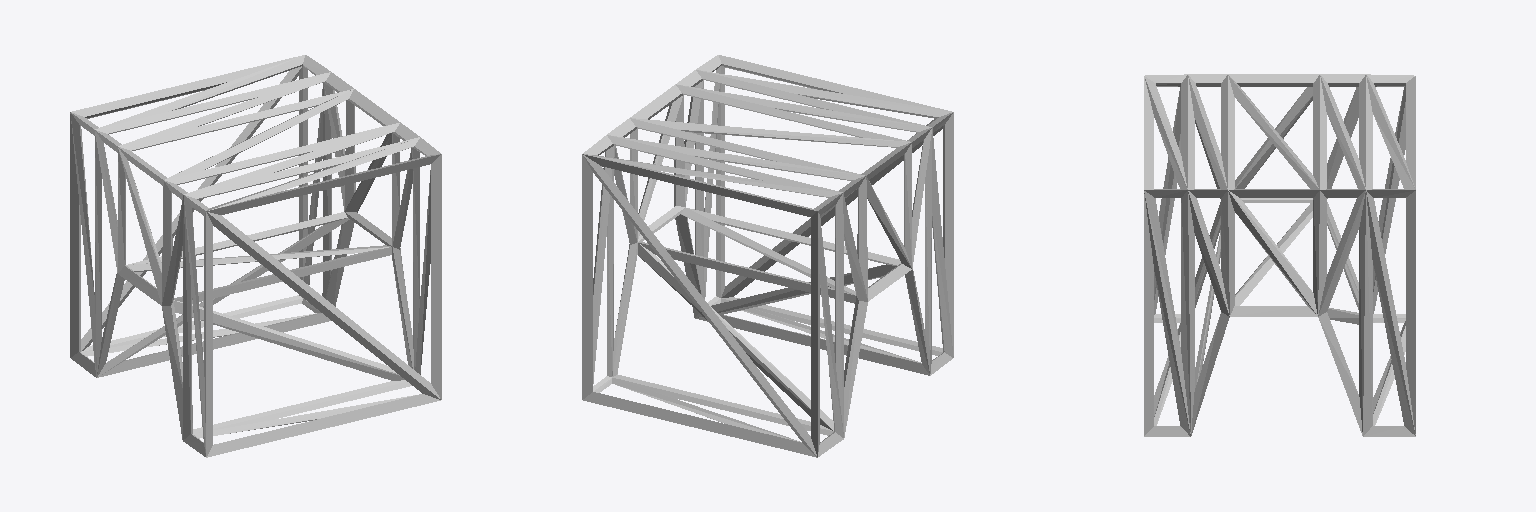
File: WF_Bridge.obj
3 views of the same model, side by side, from view 1: azimuth 30°, elevation 25°; view 2: azimuth 150°, elevation 25°; view 3: azimuth 270°, elevation 25° (orthographic).
Visible parts, largest first — view 1: Cube_Cube.002; view 2: Cube_Cube.002; view 3: Cube_Cube.002.
Part boxes in pixels (left/top/right/bottom): Cube_Cube.002: left=70, top=55, right=441, bottom=457; Cube_Cube.002: left=582, top=55, right=953, bottom=457; Cube_Cube.002: left=1144, top=74, right=1415, bottom=436.
Size of the model in its own units: 2.09 by 2.07 by 2.06.